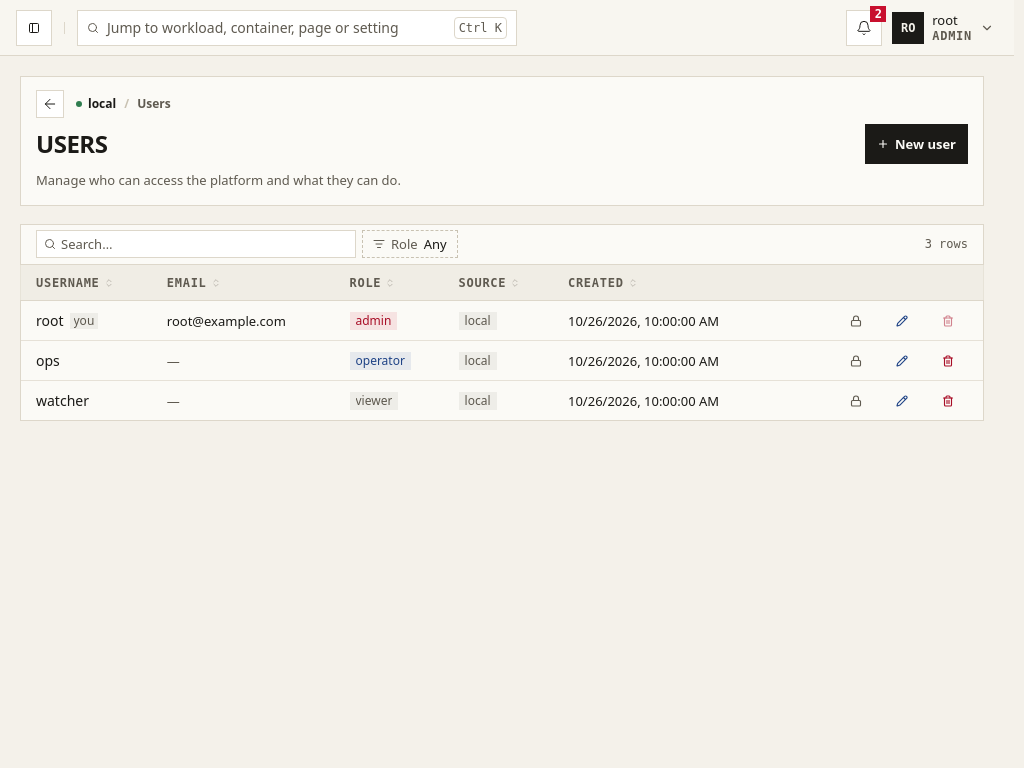
Test: users page › edits role, email and password
The image size is (1024, 768).
Click the button named "Edit watcher": {"x": 902, "y": 401} [882, 381, 922, 421]
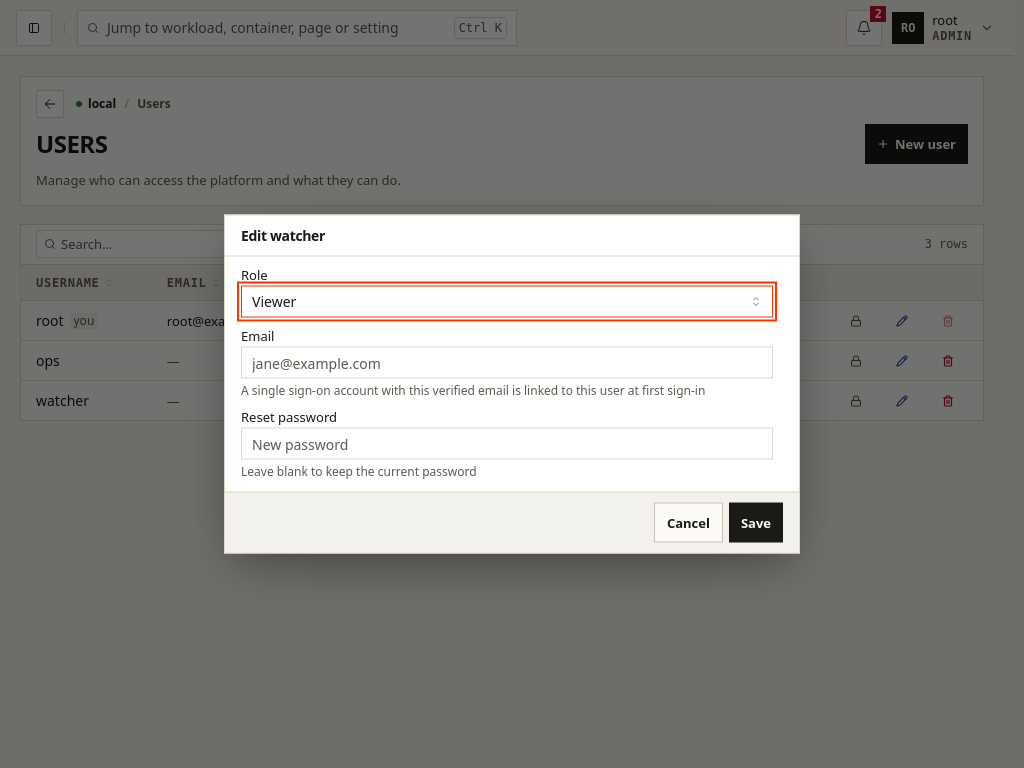
Click the dropdown named "role": {"x": 274, "y": 301} [241, 286, 773, 318]
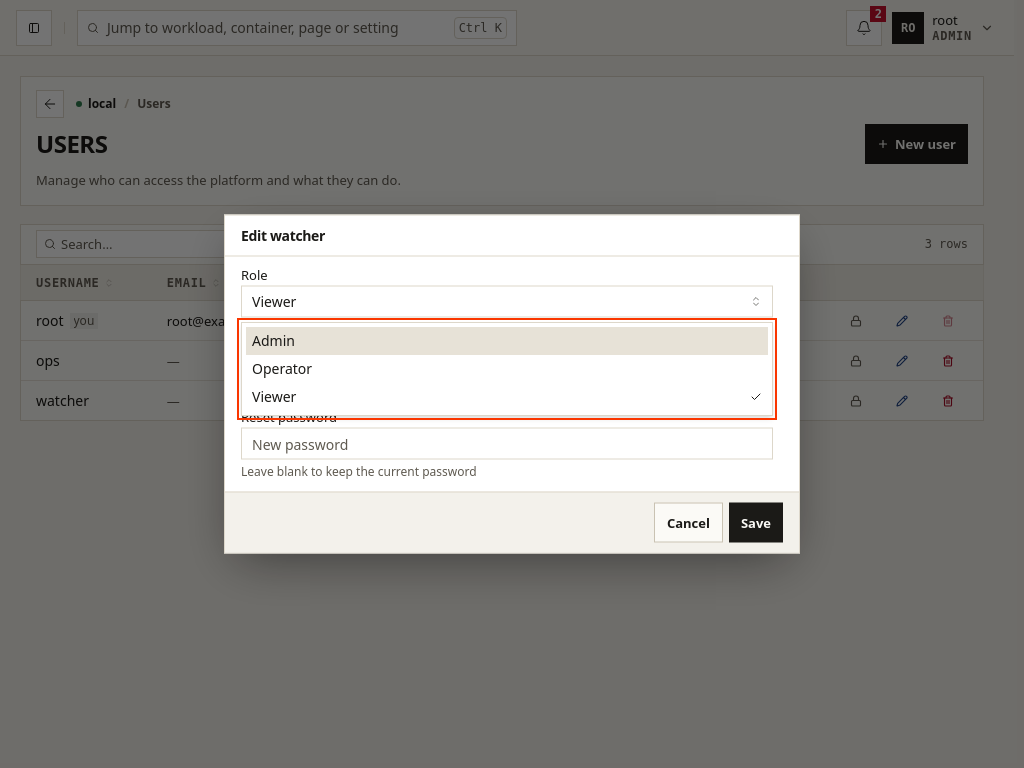
Click the option "Operator": {"x": 282, "y": 368} [252, 359, 312, 378]
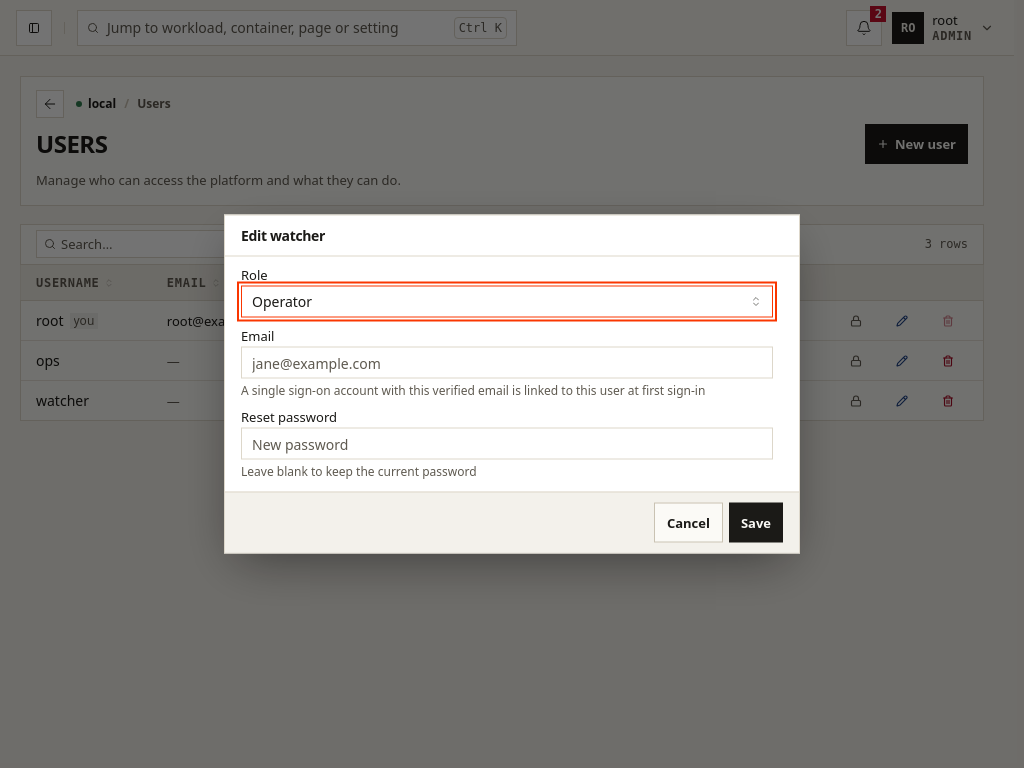
In the password field labelled "Reset password": {"x": 507, "y": 444} [241, 428, 773, 460], type "newpass"
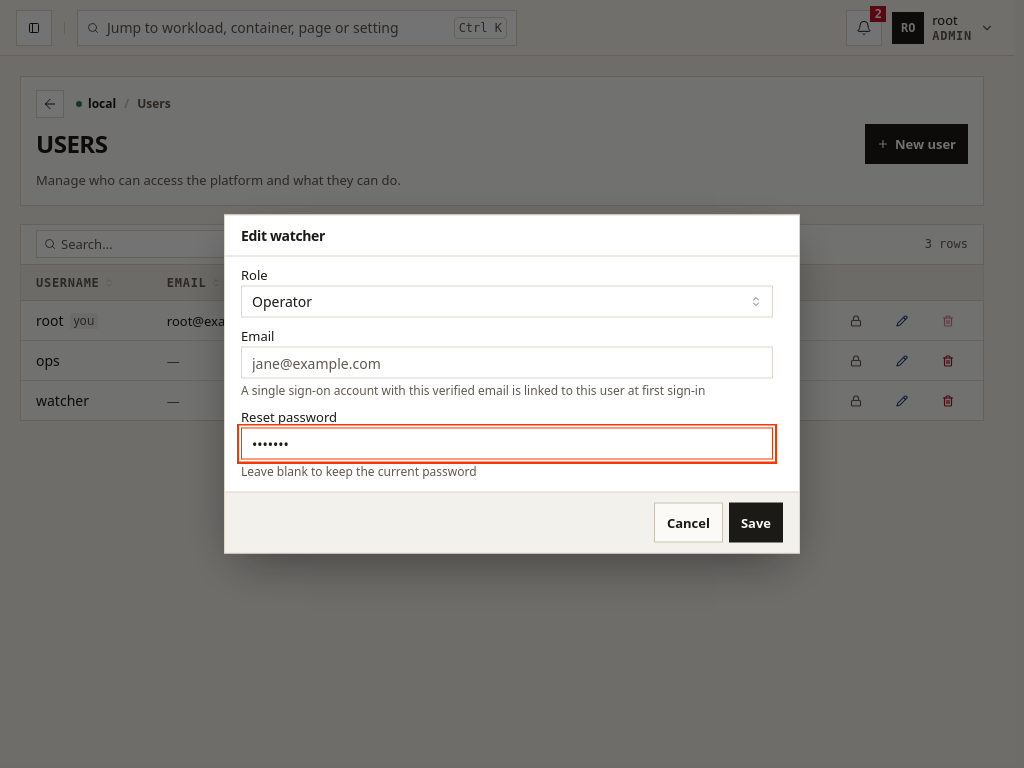
Click the button "Save": {"x": 756, "y": 522} [729, 502, 783, 542]
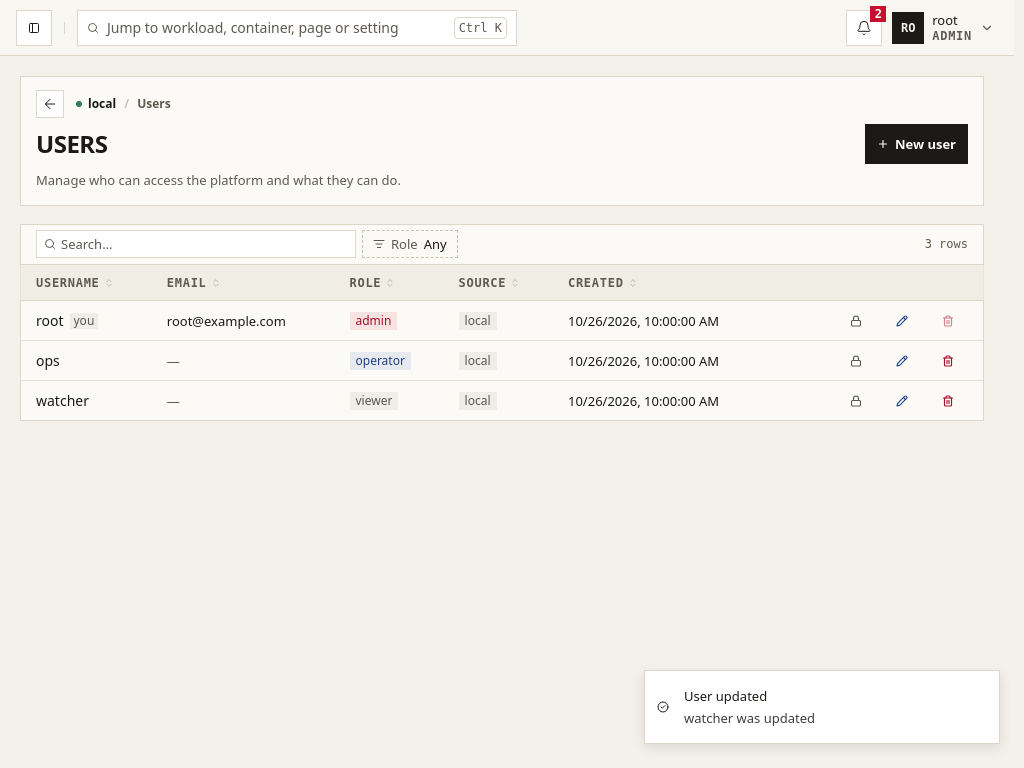
Expected: the text "User updated" is shown, [684, 687, 767, 705]
